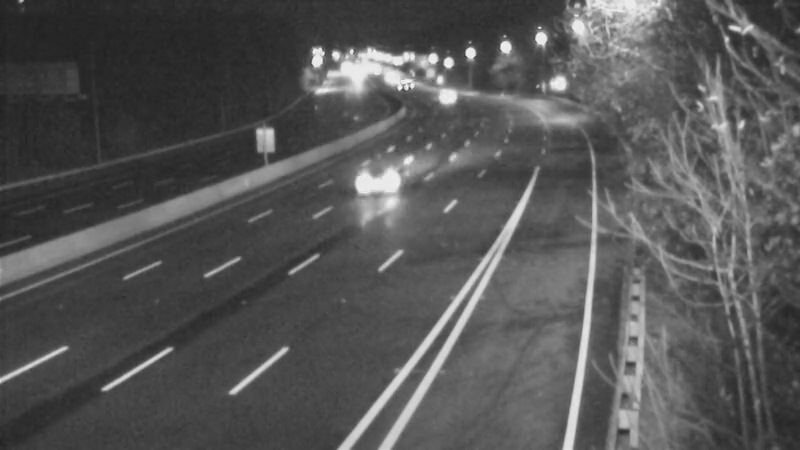vehicle: (342, 137, 422, 217), (378, 59, 428, 109), (421, 71, 471, 121)
